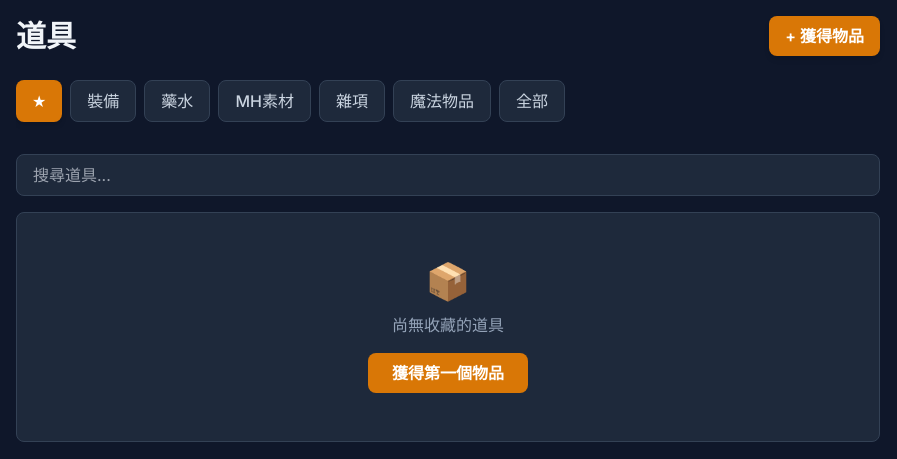
Test: ItemsPage - 魔法物品篩選 › 應該只顯示魔法物品
Click the button "全部" at (532, 101), box [499,80,565,122]
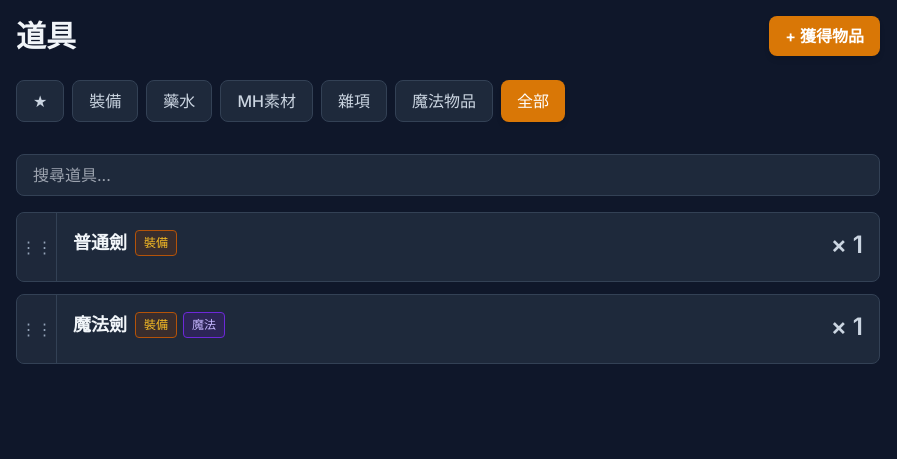
Now the heading "普通劍" is shown, box [73,229,127,257]
Now the heading "魔法劍" is shown, box [73,311,127,339]
Click the button "魔法物品" at (444, 101), box [395,80,493,122]
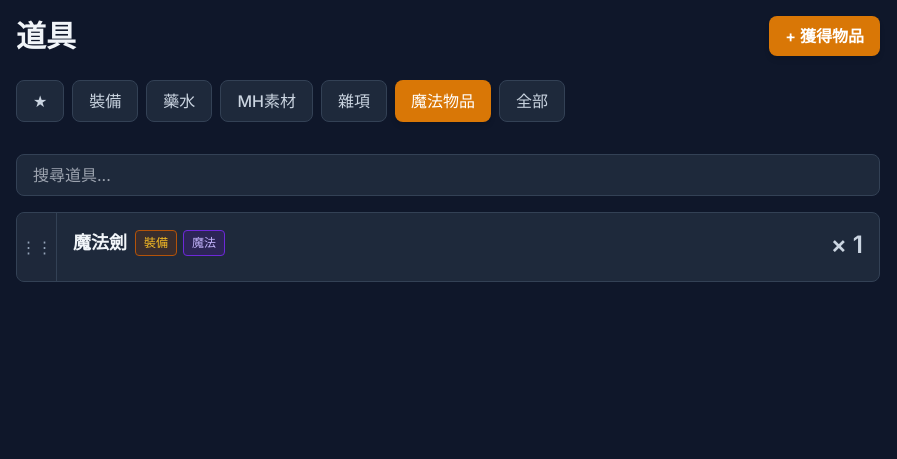
Now the heading "魔法劍" is shown, box [73,229,127,257]
Now the button "普通劍" is gone
